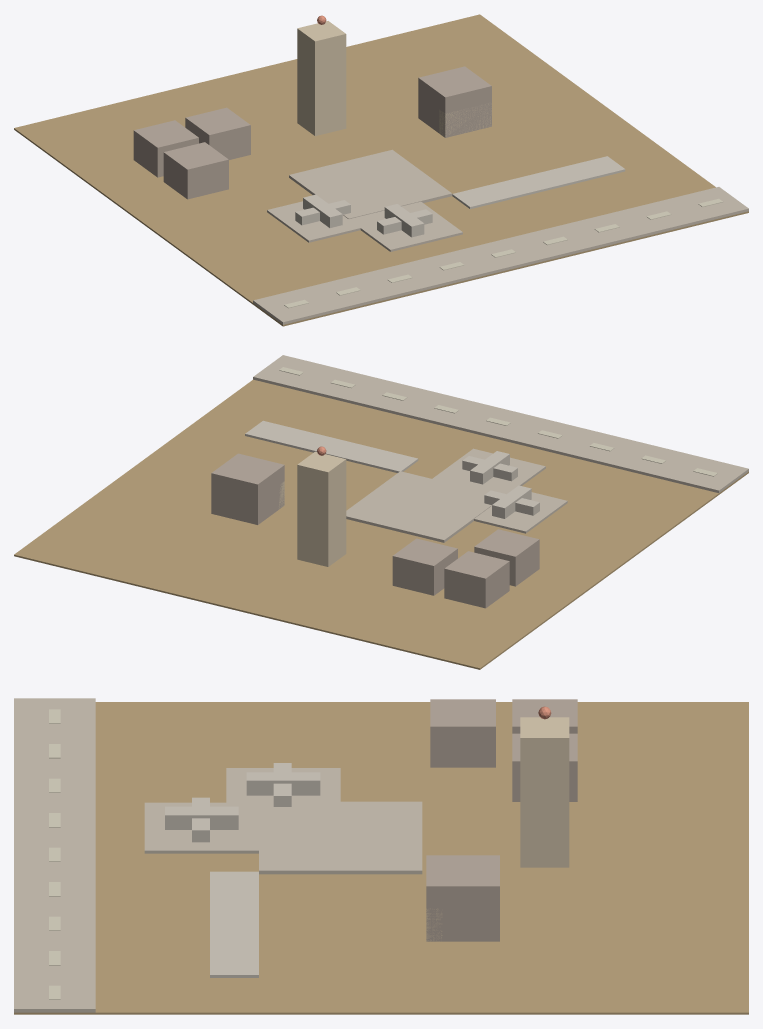
Rendered from stage_09.glb.
3 views of the same model, one above another, from view 1: azimuth 30°, elevation 25°; view 2: azimuth 150°, elevation 25°; view 3: azimuth 270°, elevation 25° (orthographic). The views are drawn at different scales.
Parts seen in each view (by area): view 1: geometry_0; view 2: geometry_0; view 3: geometry_0.
Part boxes in pixels (box(x1,y1,x2,y2)): geometry_0: box(14, 14, 748, 326); geometry_0: box(14, 355, 748, 669); geometry_0: box(14, 698, 748, 1014).
Bounding box in the file's own units: 9 × 2.06 × 9.
